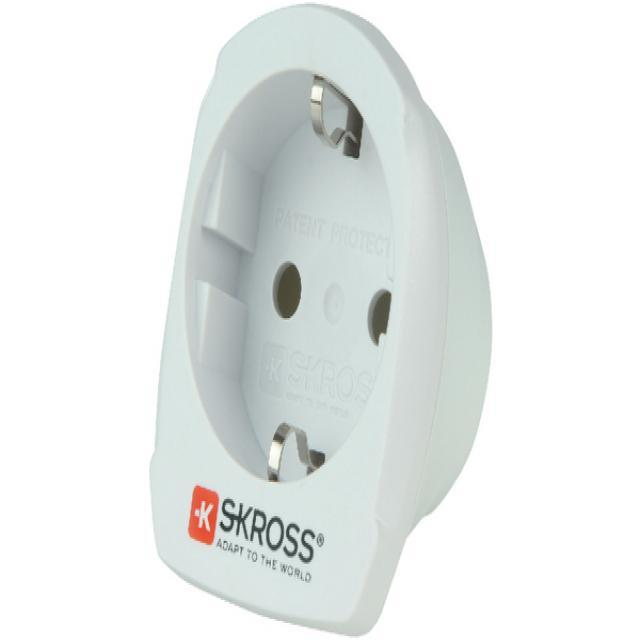typeb: (170, 28, 443, 562)
